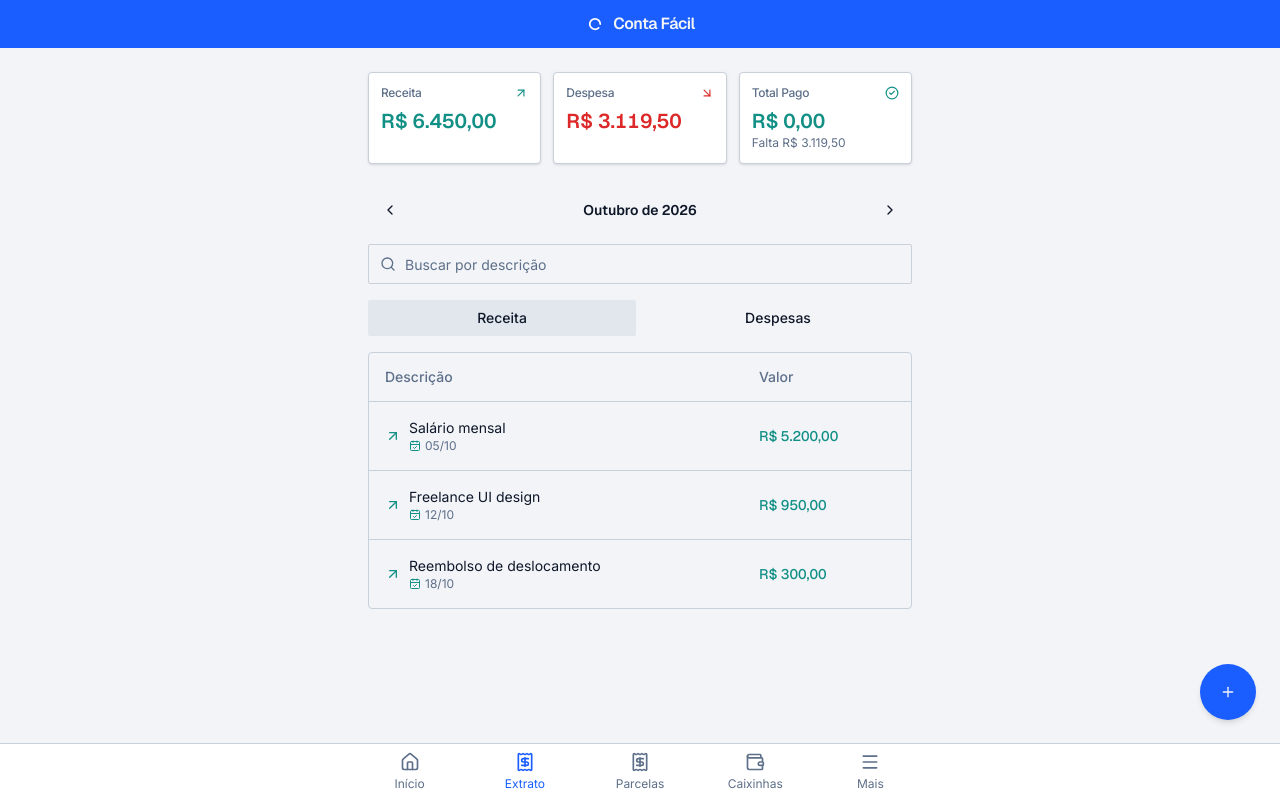
Test: TelaExtrato › a busca filtra a lista por descricao
Check: the text "Salário mensal" is shown, box [409,418,506,438]
Type "sal" into the search field named "Buscar lançamentos" at (640, 264), box [368,244,912,284]
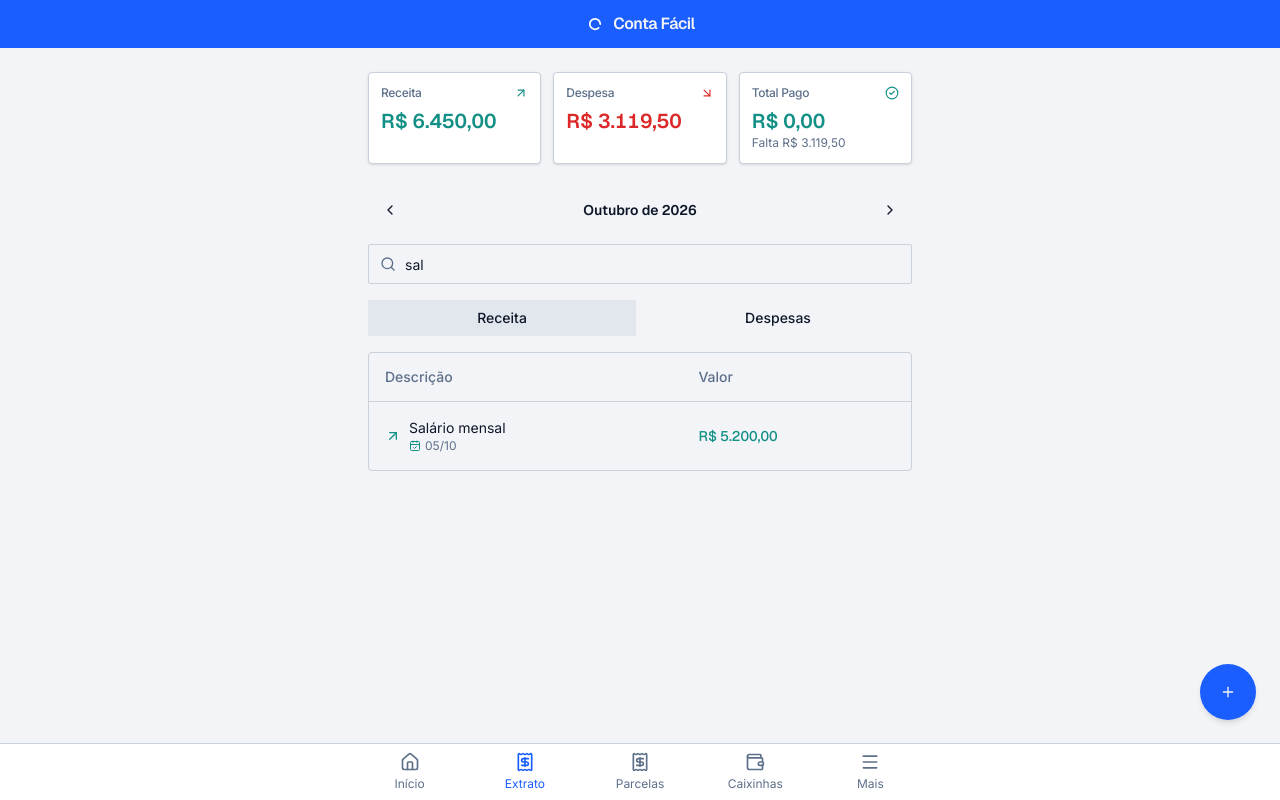
Check: the text "Salário mensal" is shown, box [409,418,506,438]
Check: the text "Freelance UI design" is gone
